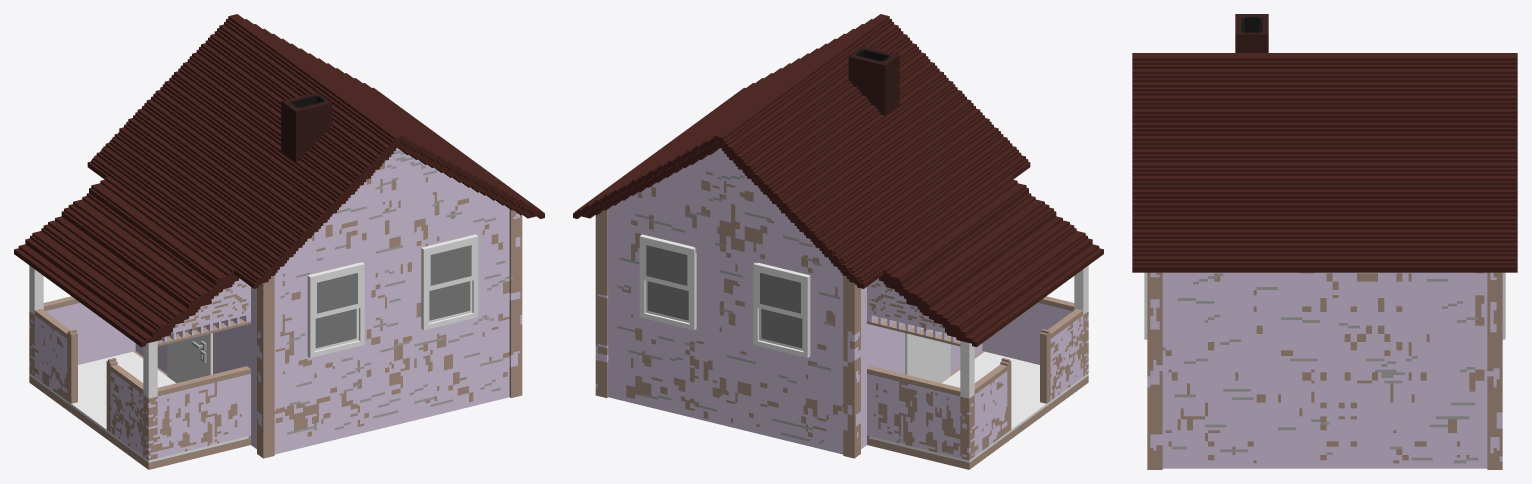
File: home17.obj
3 views of the same model, side by side, from view 1: azimuth 30°, elevation 25°; view 2: azimuth 150°, elevation 25°; view 3: azimuth 270°, elevation 25° (orthographic). The views are drawn at different scales.
Size of the model in its own units: 16.9 by 12.7 by 12.7.
Materials: 1 (1 with a texture image).
